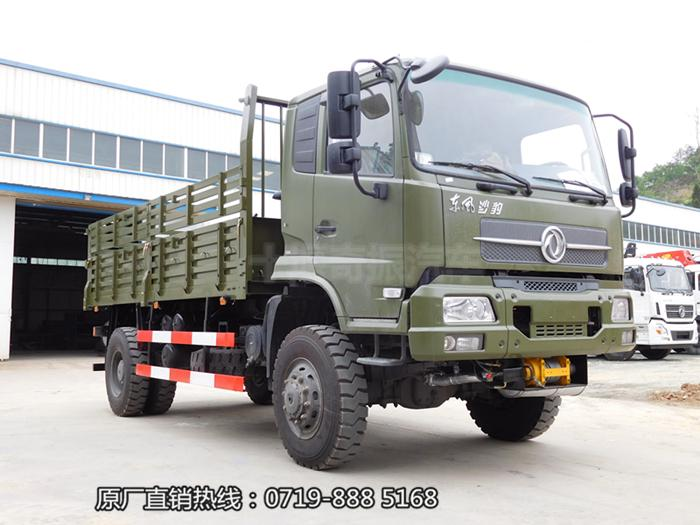truck: (66, 53, 643, 473)
